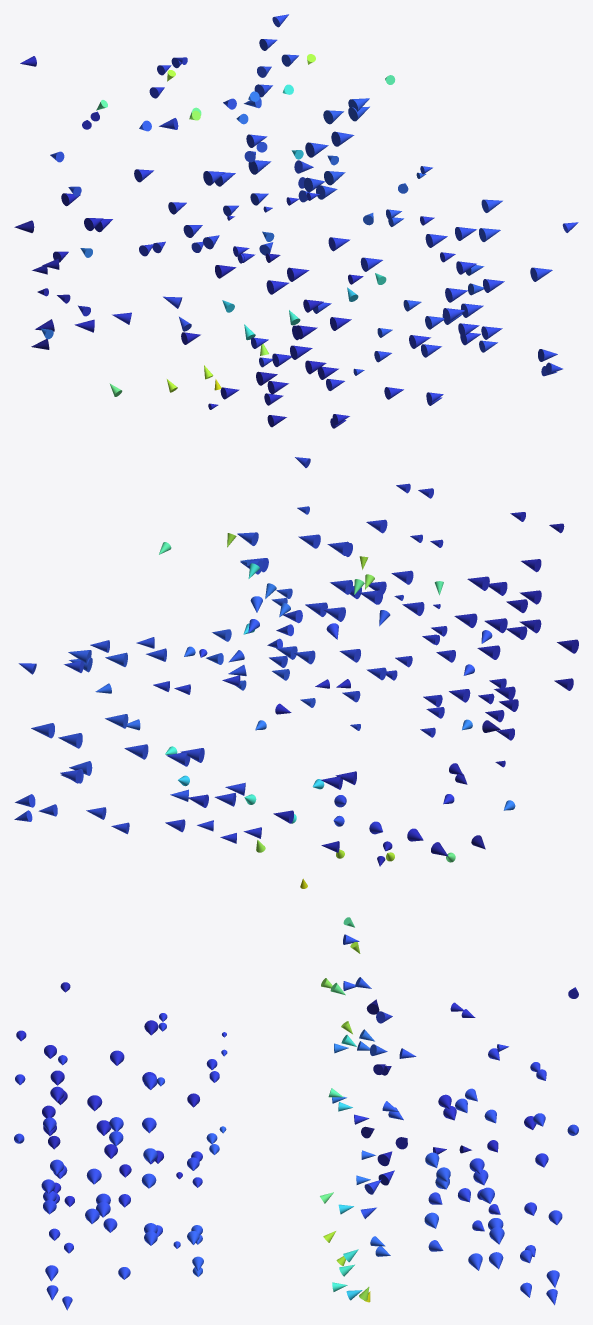
File: LineasCorrienteN2-H2O_mh2-8.20_V-1.1.glb
3 views of the same model, one above another, from view 1: azimuth 30°, elevation 25°; view 2: azimuth 150°, elevation 25°; view 3: azimuth 270°, elevation 25° (orthographic). The views are drawn at different scales.
Size of the model in its own units: 0.000991 by 0.000791 by 0.00122.
2 materials, 2 textured.
